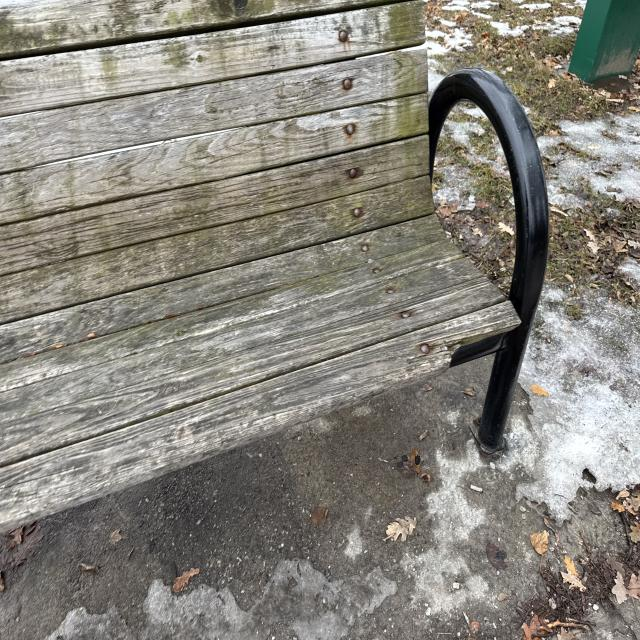Bench: (1, 10, 548, 470)
